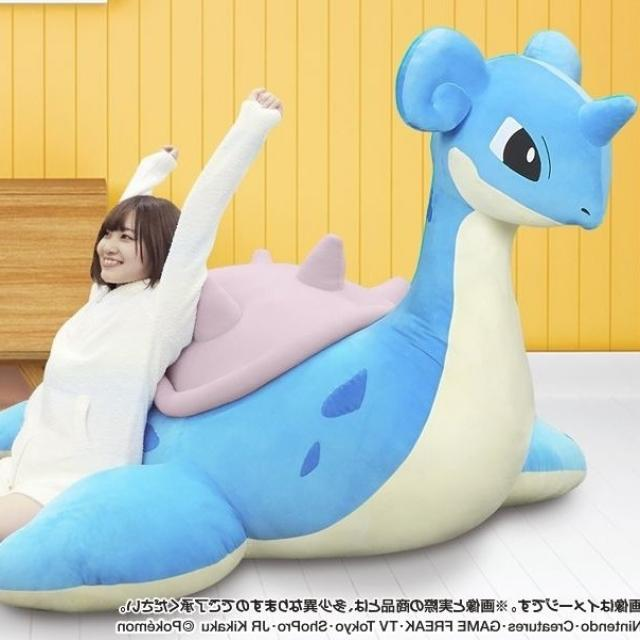Lapras: (156, 22, 620, 560)
